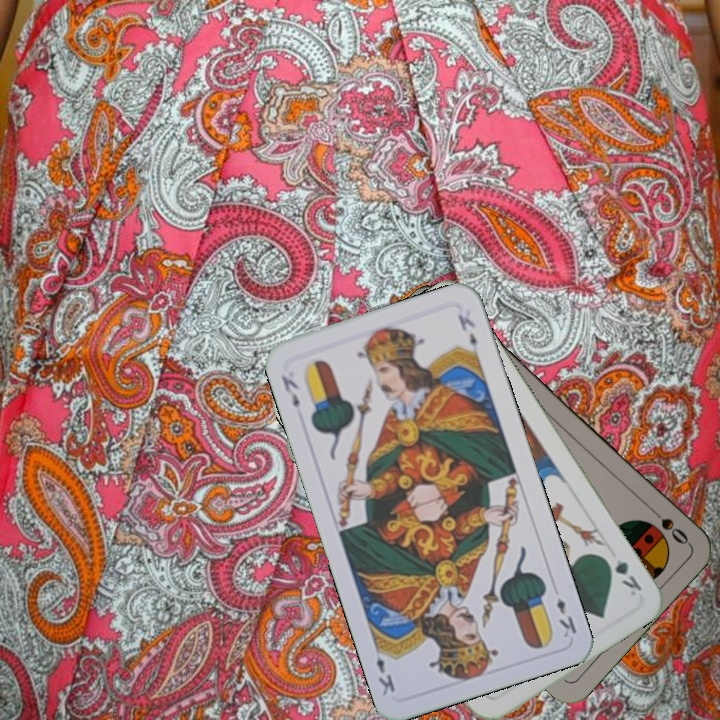EK: (552, 594, 580, 640), (277, 371, 302, 411)
GK: (599, 551, 645, 599)
SO: (644, 501, 692, 547)
